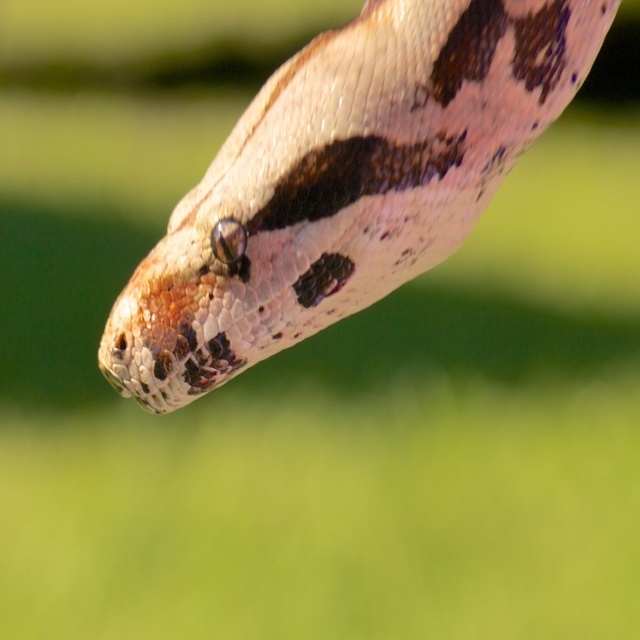Snake: (100, 0, 622, 416)
